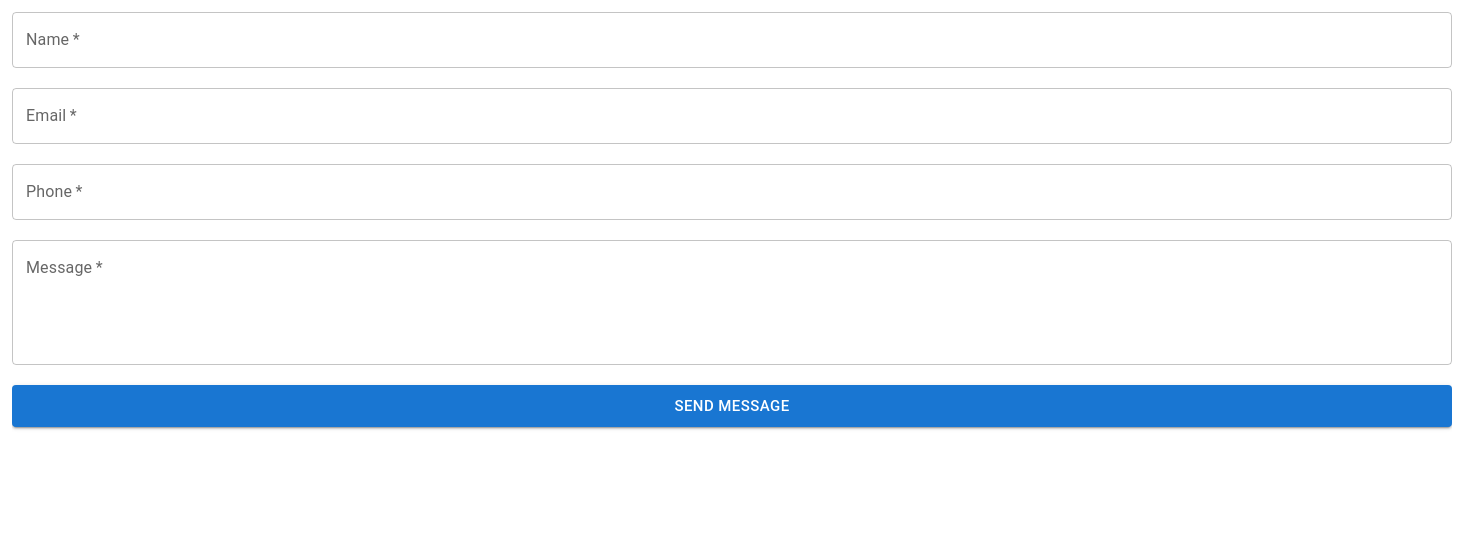
it: ContactForm › blocks submission and shows errors when required fields are empty
Click the button "Send Message". click: (732, 406)
box: left=12, top=385, right=1452, bottom=427
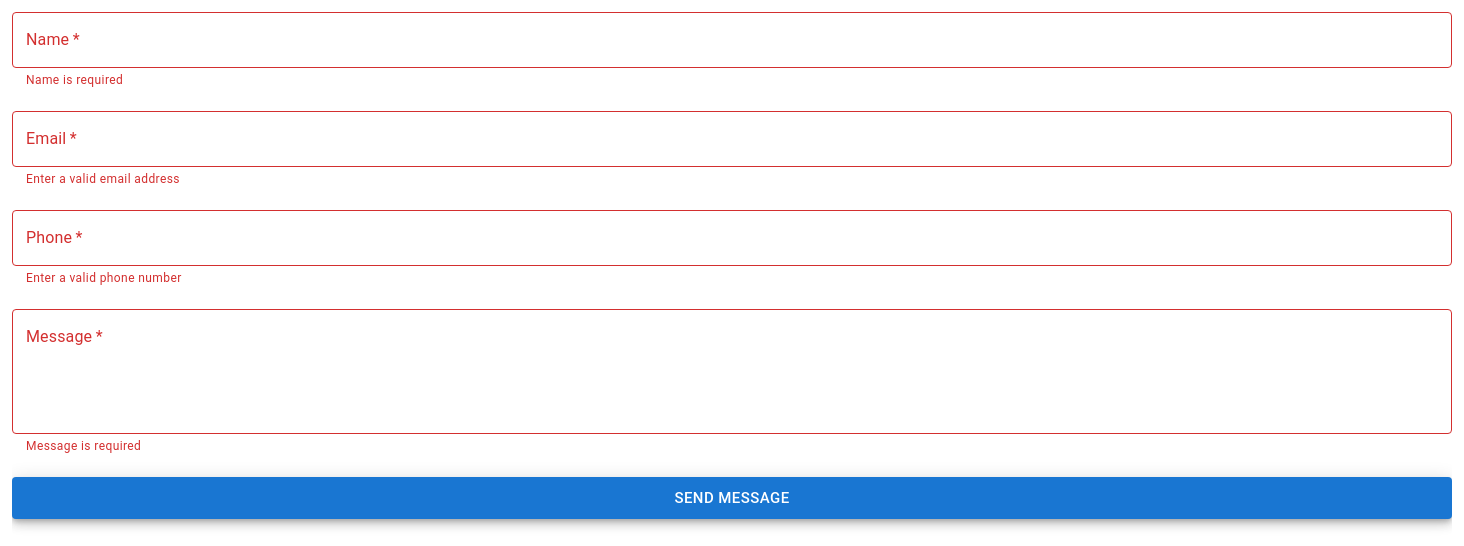
Expected: the text "Name is required" is shown, left=26, top=73, right=123, bottom=87
Expected: the text "Message is required" is shown, left=26, top=439, right=141, bottom=453
